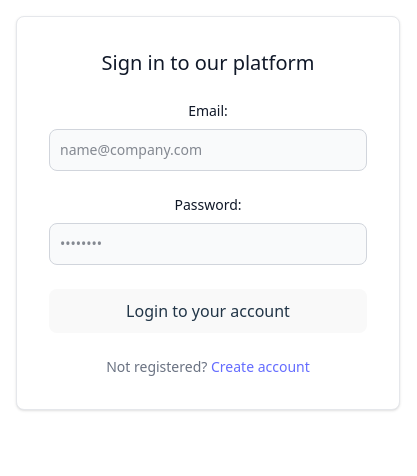
Test: Login Page › shows validation errors when submitted empty
Click the button "Login to your account" at (208, 311), box [49,289,367,333]
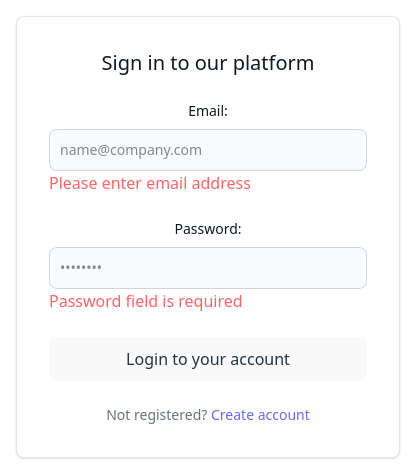
Check: the text "Please enter email address" is shown, box [49,172,251,194]
Check: the text "Password field is required" is shown, box [49,290,243,312]
